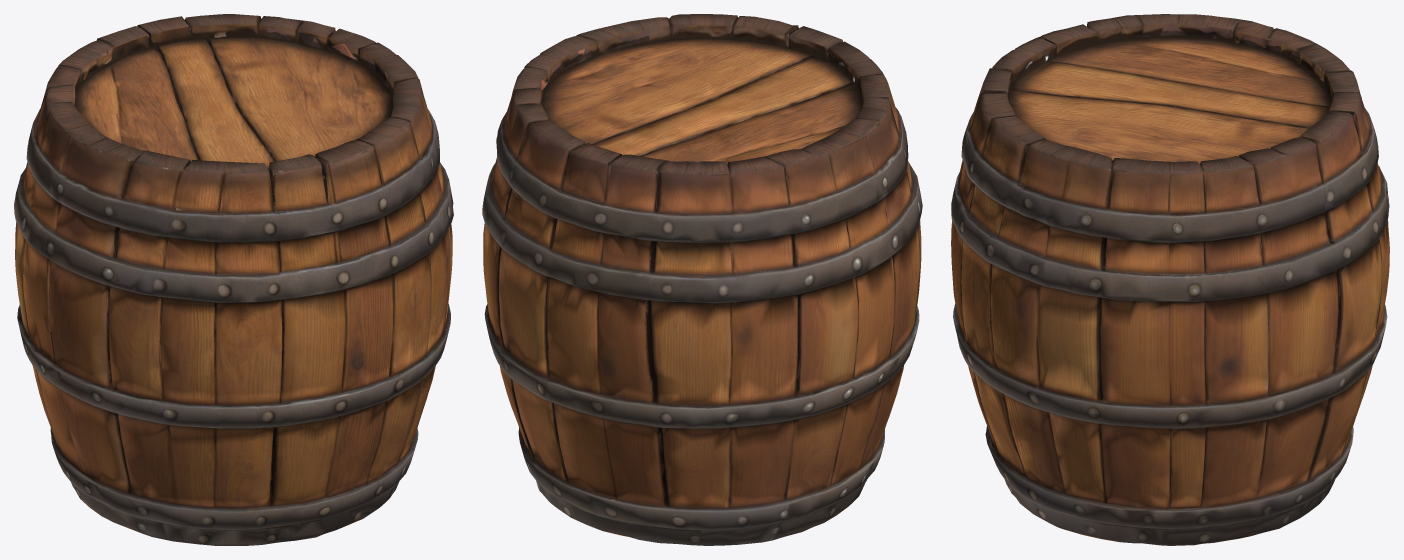
File: Make_a_wooden_barrel__0725233815_texture.glb
3 renders of one model, left to right at view 1: azimuth 30°, elevation 25°; view 2: azimuth 150°, elevation 25°; view 3: azimuth 270°, elevation 25°, orthographic.
Bounding box in the file's own units: 2 × 1.94 × 2.
1 material, 1 textured.
